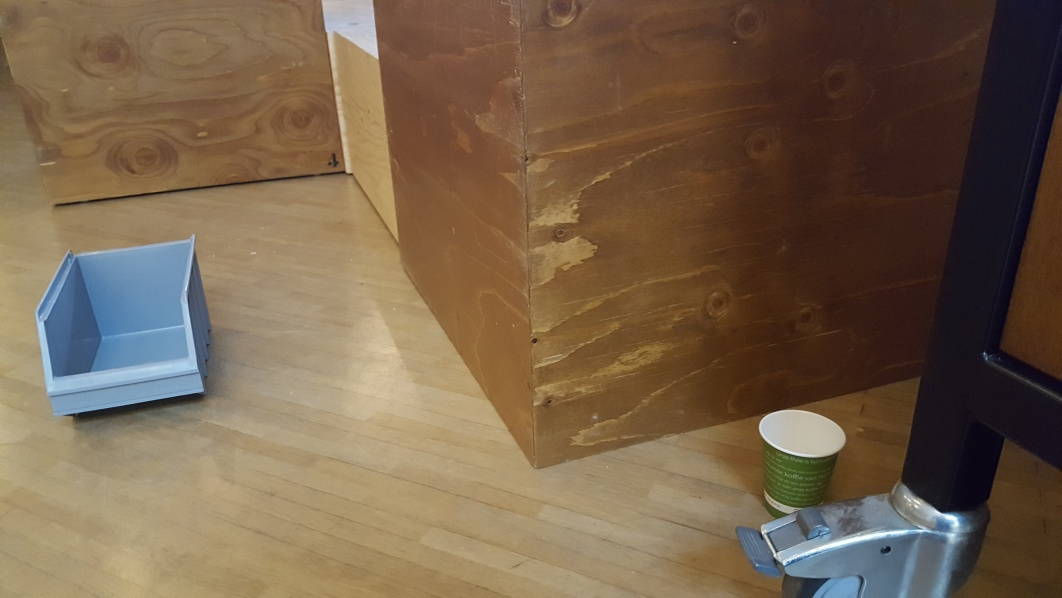cup: (757, 406, 845, 517)
tray: (36, 234, 210, 417)
